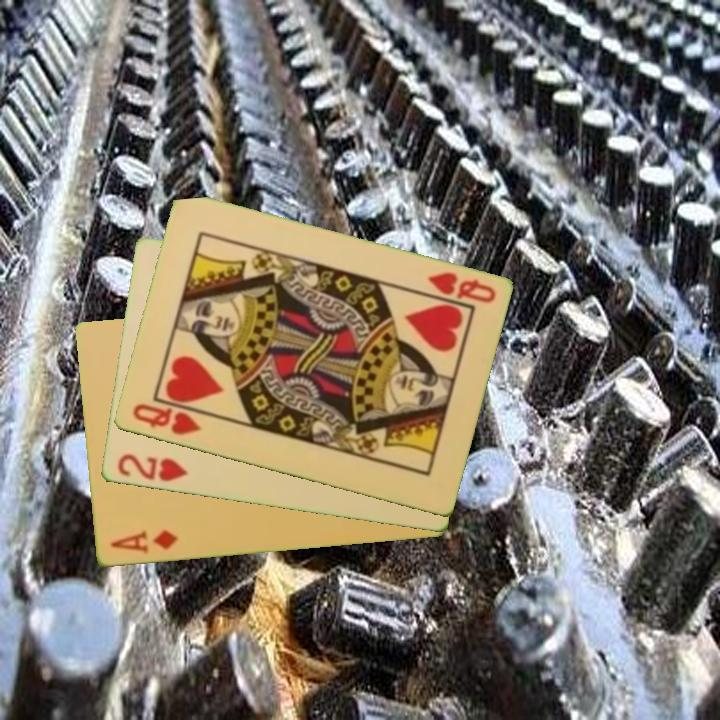2h: (113, 450, 190, 485)
Ad: (107, 527, 181, 557)
Qh: (128, 400, 204, 439), (423, 268, 498, 307)
